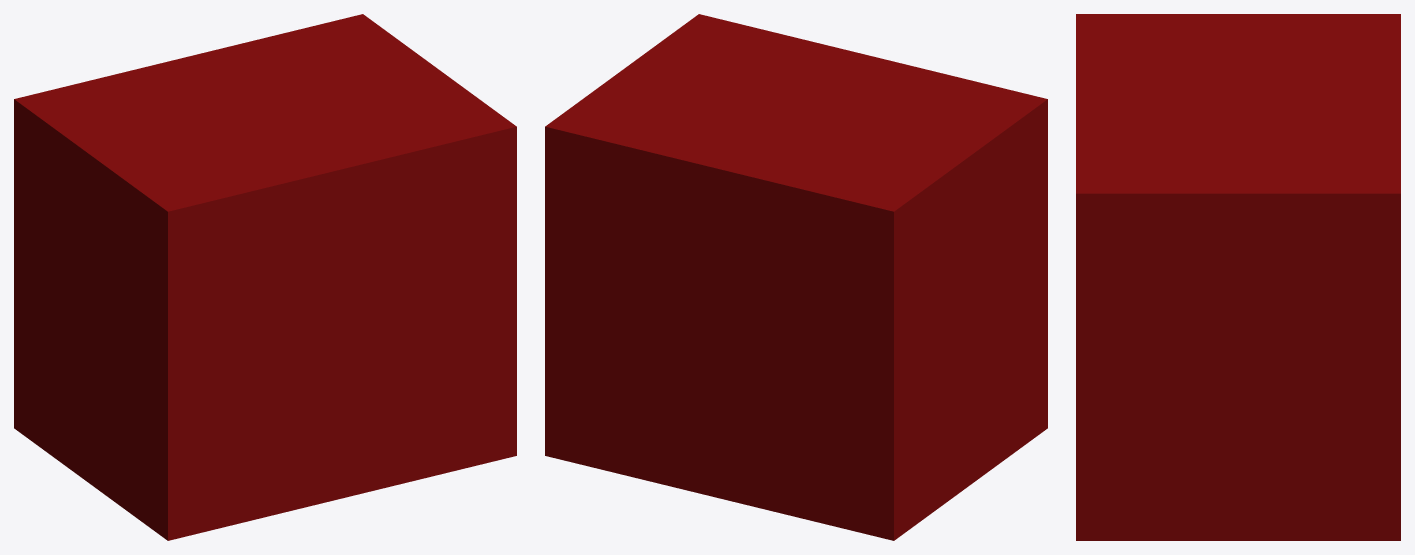
Rendered from canopytree_three.DAE.
3 views of the same model, side by side, from view 1: azimuth 30°, elevation 25°; view 2: azimuth 150°, elevation 25°; view 3: azimuth 270°, elevation 25° (orthographic). The views are drawn at different scales.
Visible parts, largest first — view 1: bounds; view 2: bounds; view 3: bounds.
Part boxes in pixels (left/top/right/bottom): bounds: left=14, top=14, right=516, bottom=540; bounds: left=545, top=14, right=1047, bottom=540; bounds: left=1076, top=14, right=1400, bottom=540.
Bounding box in the file's own units: 24.34 × 18.59 × 22.3.
